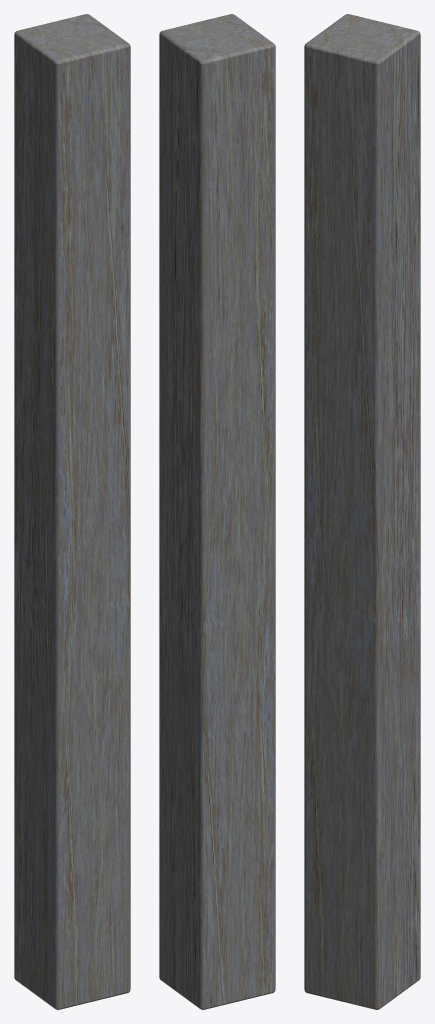
File: SmallSupport.obj
3 views of the same model, side by side, from view 1: azimuth 30°, elevation 25°; view 2: azimuth 210°, elevation 25°; view 3: azimuth 330°, elevation 25° (orthographic).
Parts seen in each view (by area): view 1: SmallSupport; view 2: SmallSupport; view 3: SmallSupport.
Part boxes in pixels (x1,y1,x2,y2): SmallSupport: [14, 14, 130, 1009]; SmallSupport: [159, 14, 275, 1009]; SmallSupport: [304, 14, 420, 1009].
Bounding box in the file's own units: 25 × 300 × 25.
1 material, 1 textured.
